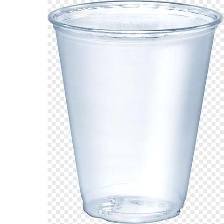glass: (44, 0, 223, 224)
